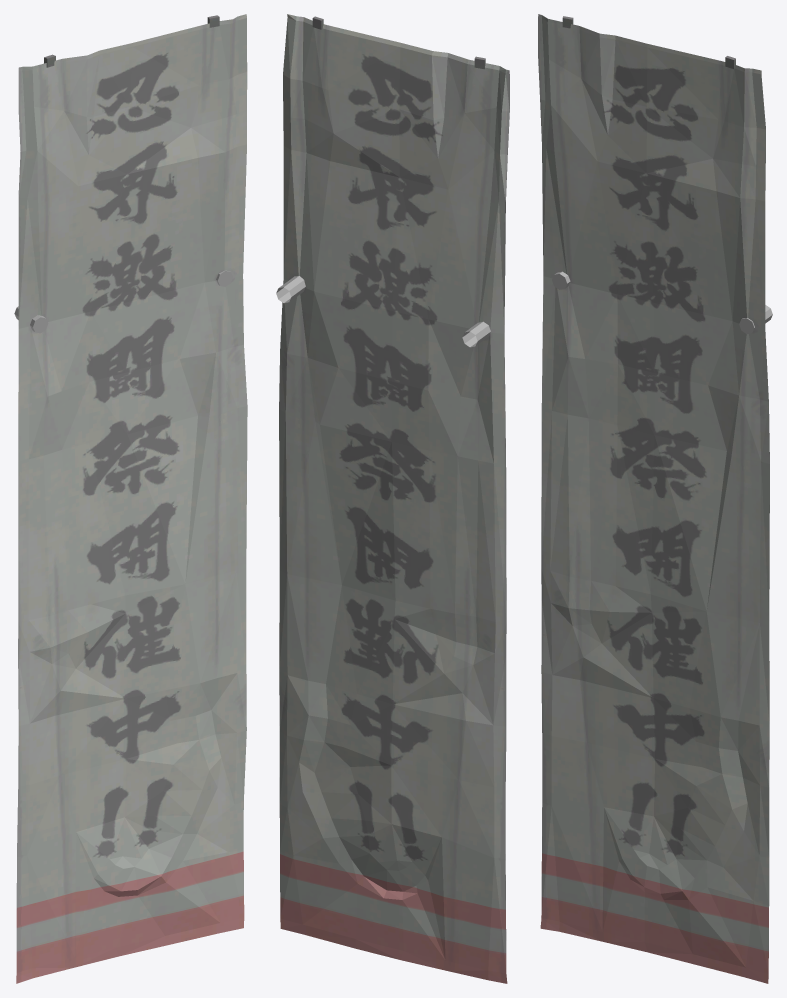
Rendered from SM_ENV_TCHEXA_Curtain_B.fbx.
3 views of the same model, side by side, from view 1: azimuth 30°, elevation 25°; view 2: azimuth 150°, elevation 25°; view 3: azimuth 330°, elevation 25° (orthographic).
Parts seen in each view (by area): view 1: SM_ENV_TCHEXA_Curtain_B.mo; view 2: SM_ENV_TCHEXA_Curtain_B.mo; view 3: SM_ENV_TCHEXA_Curtain_B.mo.
Part boxes in pixels (x1,y1,x2,y2): SM_ENV_TCHEXA_Curtain_B.mo: [14, 14, 247, 983]; SM_ENV_TCHEXA_Curtain_B.mo: [276, 14, 509, 983]; SM_ENV_TCHEXA_Curtain_B.mo: [538, 14, 772, 983].
Size of the model in its own units: 670 by 2561 by 117.
